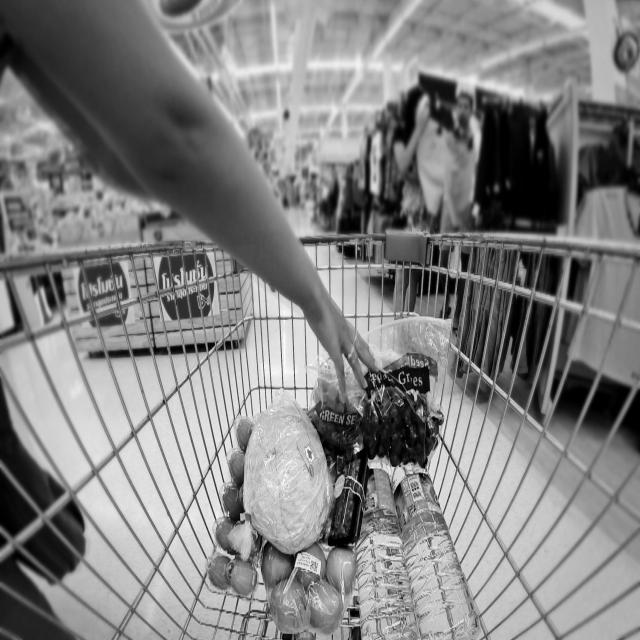bap cai: (243, 400, 339, 561)
nho: (356, 362, 456, 471)
tao: (253, 535, 359, 640)
trung: (206, 420, 262, 599)
